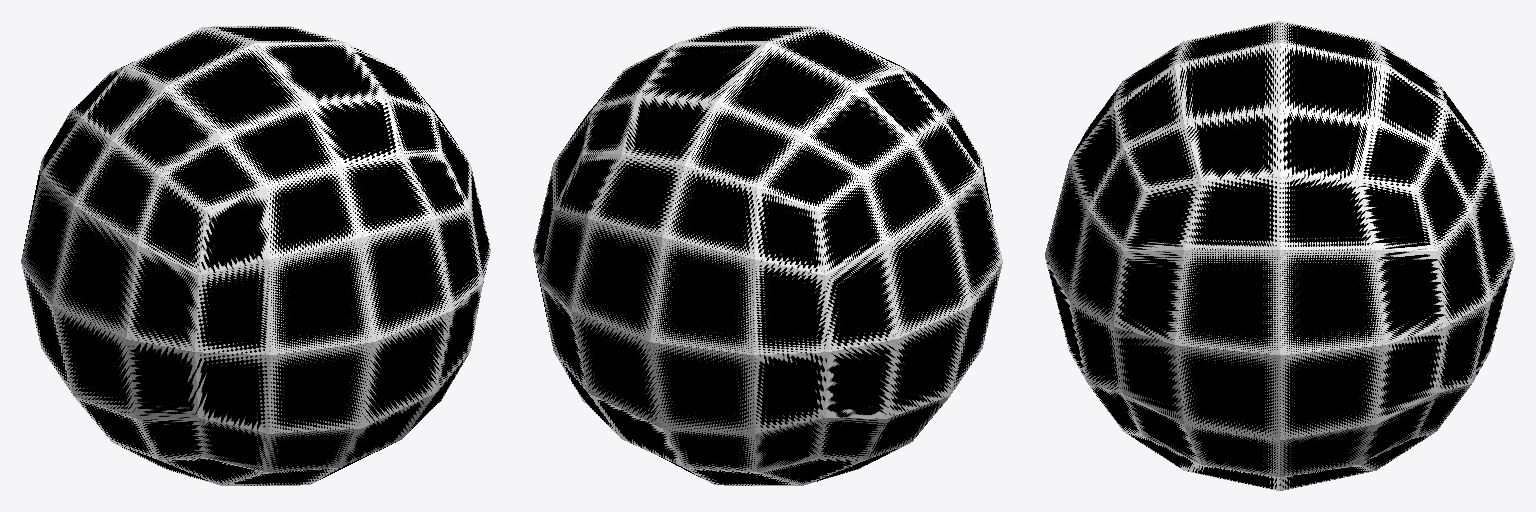
3 views of the same model, side by side, from view 1: azimuth 30°, elevation 25°; view 2: azimuth 150°, elevation 25°; view 3: azimuth 270°, elevation 25° (orthographic).
Parts seen in each view (by area): view 1: Cube; view 2: Cube; view 3: Cube.
Boxes of the visible parts, <box> form: Cube: <box>21,26,490,485</box>; Cube: <box>533,26,1002,485</box>; Cube: <box>1045,21,1514,490</box>.
Size of the model in its own units: 5.42 by 5.42 by 5.42.
1 materials, 1 textured.